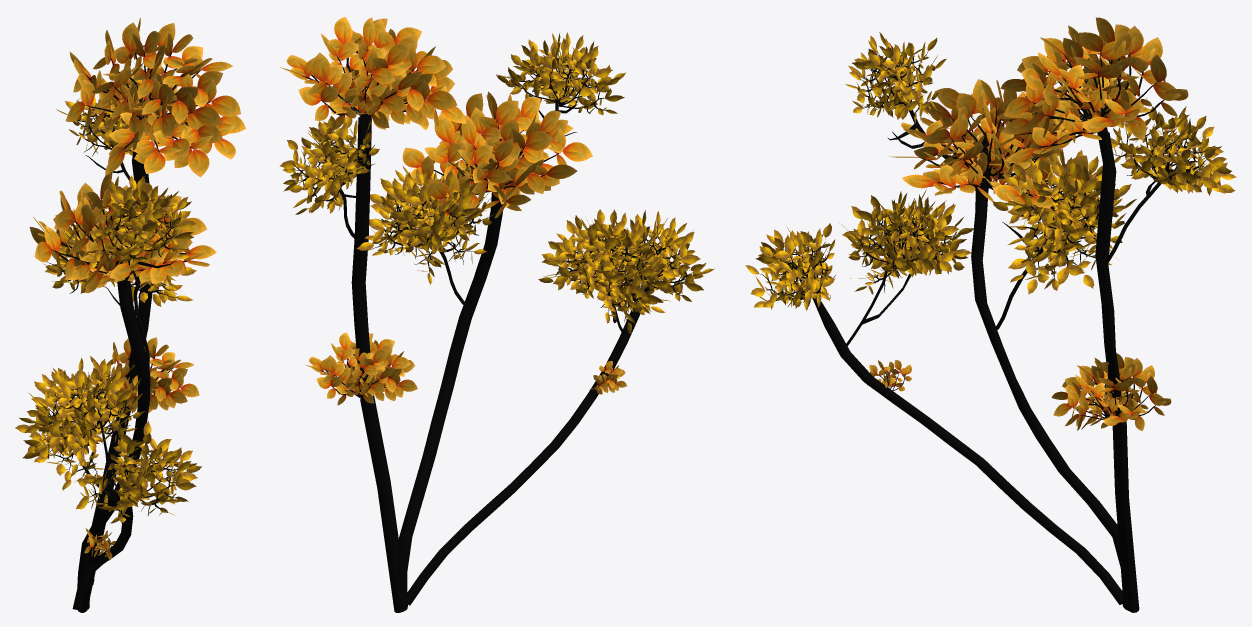
File: yellowtree1.fbx
The picture shows the model from 3 angles, left to right: view 1: azimuth 30°, elevation 25°; view 2: azimuth 150°, elevation 25°; view 3: azimuth 270°, elevation 25°; orthographic projection. The views are drawn at different scales.
Parts seen in each view (by area): view 1: pCylinder1066; view 2: pCylinder1066; view 3: pCylinder1066.
Part boxes in pixels (x1,y1,x2,y2): pCylinder1066: [15, 17, 245, 612]; pCylinder1066: [280, 17, 714, 612]; pCylinder1066: [745, 17, 1236, 612].
Size of the model in its own units: 30.99 by 57.63 by 42.33.
